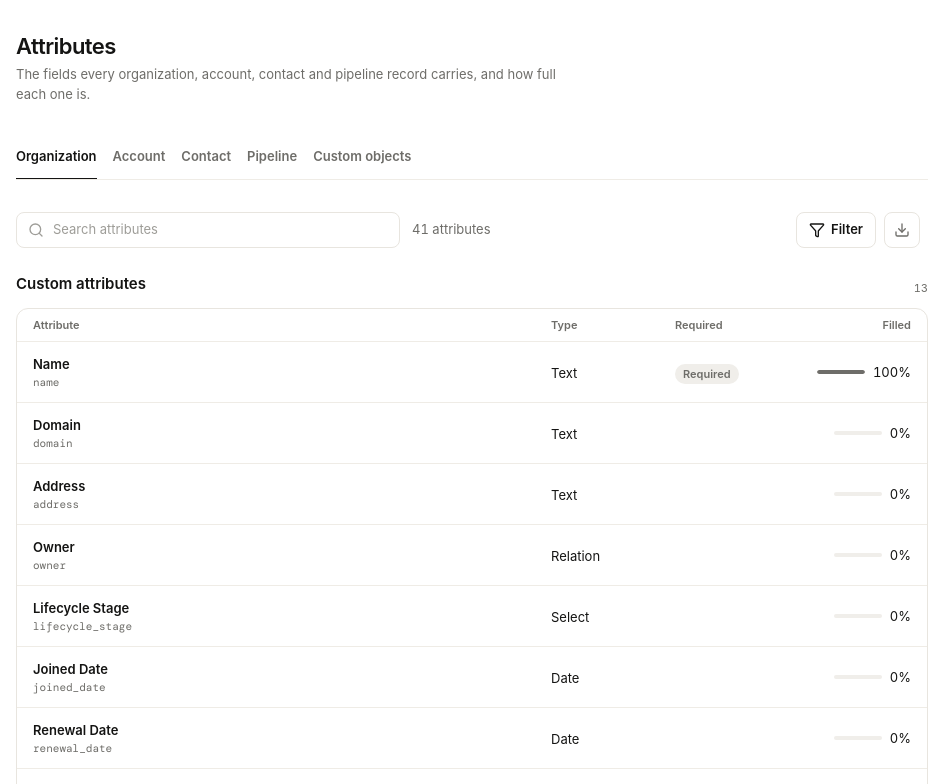
Test: SettingsPage — Data tab, Contact sub-tab › fetches every contact and renders real Custom/System attribute sections
The width and height of the screenshot is (945, 784).
Click the tab "Contact" at coordinates (206, 158), box [181,136,231,180]
(page scrolled)
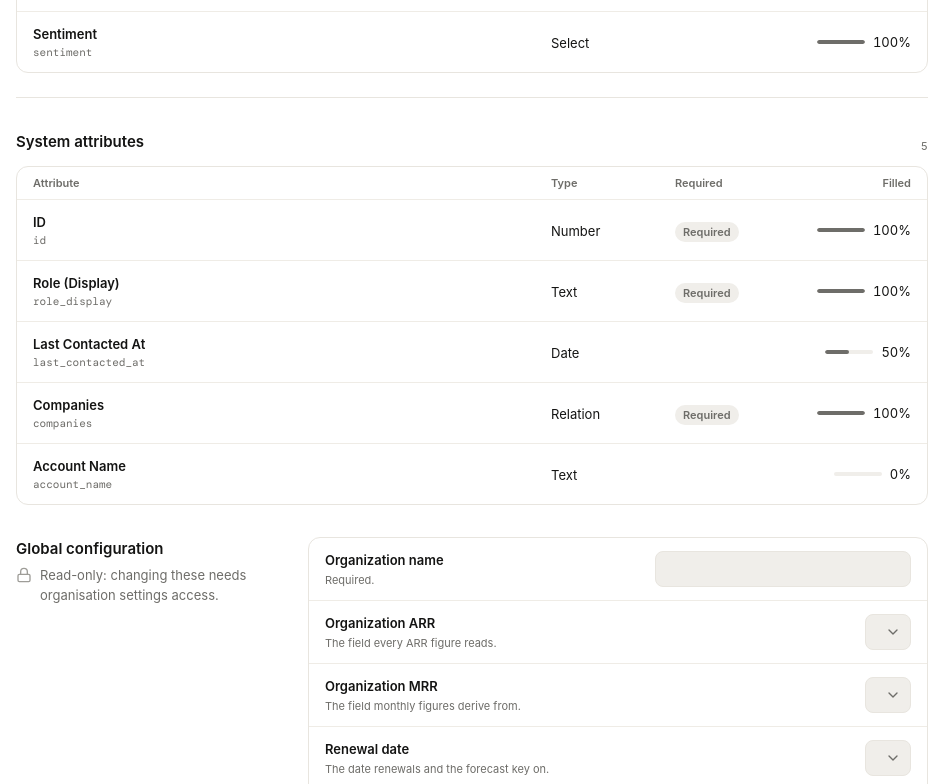
Expected: the text "sentiment" is shown, [33,45,92,59]
Expected: the text "Companies" is shown, [33,397,104,413]
